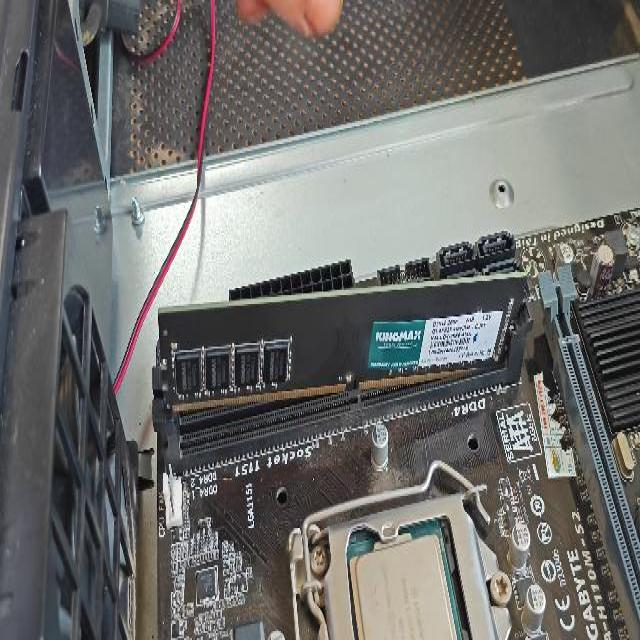CPU: (333, 524, 464, 640)
Mainboard: (130, 199, 640, 640)
RAM: (154, 262, 539, 422)
